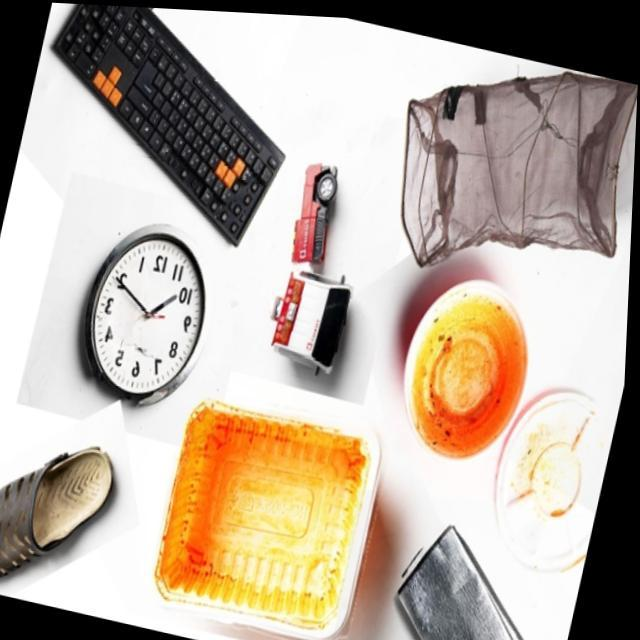container: (151, 354, 400, 640)
